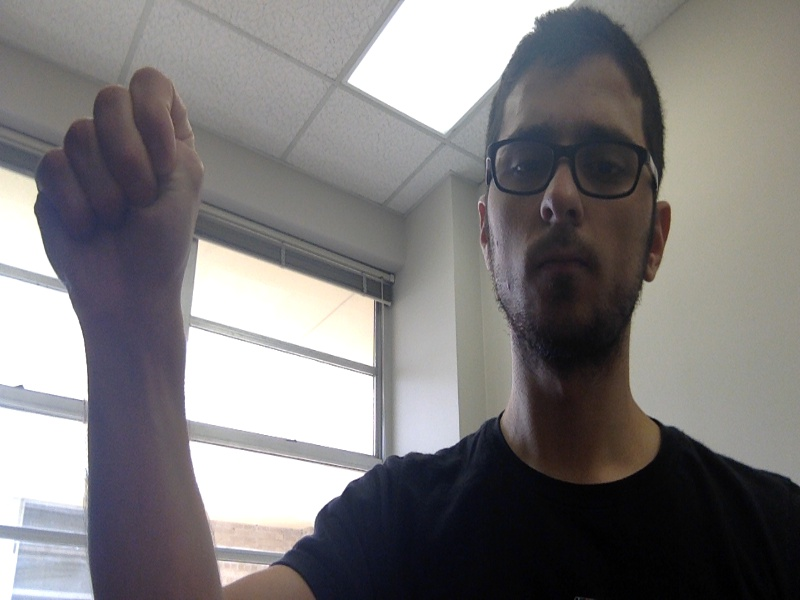0-hand: (35, 68, 206, 299)
